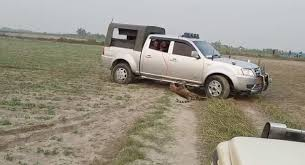Vehicle: (99, 21, 272, 94)
